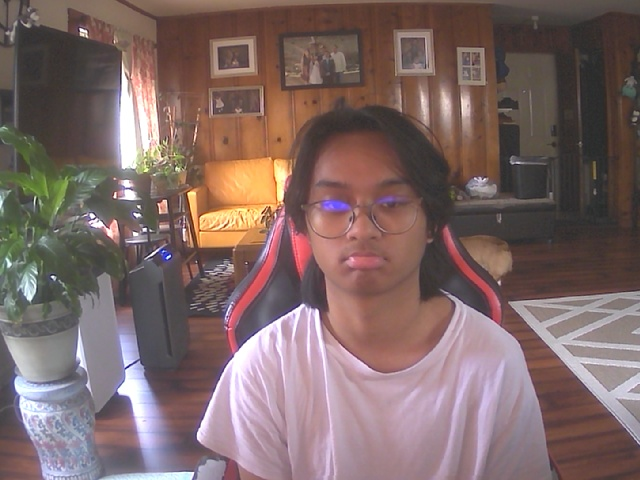sad: (296, 119, 442, 298)
